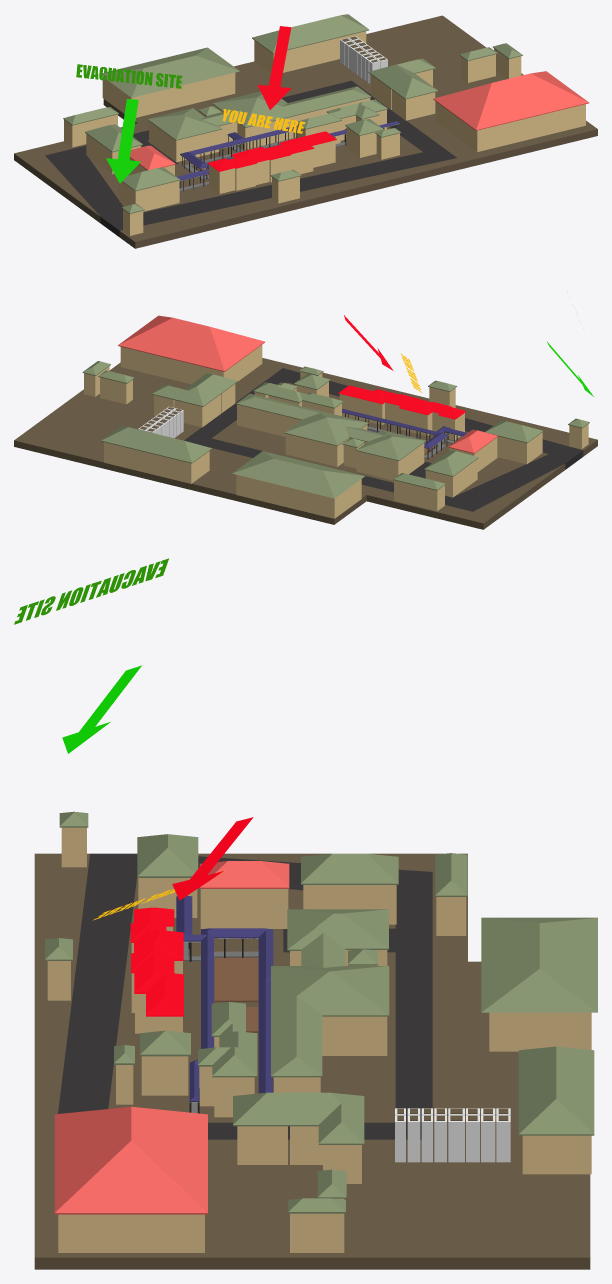
The model's file is BASDBUILDING.glb.
3 renders of one model, top to bottom at view 1: azimuth 30°, elevation 25°; view 2: azimuth 150°, elevation 25°; view 3: azimuth 270°, elevation 25°, orthographic. The views are drawn at different scales.
Visible parts, largest first — view 1: Toposolid Grassland - 1200mm [352516], Toposolid Grassland - 1200mm [354195], Basic Roof Generic - 125mm [387914], Basic Roof Generic - 125mm [384035], Toposolid Grassland - 1200mm [354195].001, Basic Roof Generic - 125mm [378573], Basic Wall Generic - 200mm [355787], Basic Wall Generic - 200mm [355672], Basic Roof Generic - 125mm [385592], Basic Roof Generic - 125mm [385698], Basic Roof Generic - 125mm [387351], Basic Wall Generic - 200mm [355773] (+35 smaller); view 2: Toposolid Grassland - 1200mm [352516], Toposolid Grassland - 1200mm [354195], Basic Roof Generic - 125mm [387914], Basic Roof Generic - 125mm [384035], Basic Roof Generic - 125mm [378573], Basic Wall Generic - 200mm [355757], Basic Roof Generic - 125mm [385592], Basic Wall Generic - 200mm [355771], Basic Wall Generic - 200mm [355789], Basic Roof Generic - 125mm [385698], Basic Roof Generic - 125mm [387351], Basic Wall Generic - 200mm [357221] (+23 smaller); view 3: Toposolid Grassland - 1200mm [352516], Toposolid Grassland - 1200mm [354195], Basic Roof Generic - 125mm [387914], Basic Roof Generic - 125mm [384035], Toposolid Grassland - 1200mm [354195].001, Basic Roof Generic - 125mm [378573], Basic Roof Generic - 125mm [385592], Basic Wall Generic - 200mm [355788], Basic Roof Generic - 125mm [389243], Basic Roof Generic - 125mm [387351], Basic Roof Generic - 125mm [385698], Basic Wall Generic - 200mm [355719] (+24 smaller).
Part boxes in pixels (<box>): Toposolid Grassland - 1200mm [352516]: <box>14,15,597,248</box>; Toposolid Grassland - 1200mm [354195]: <box>45,80,456,236</box>; Basic Roof Generic - 125mm [387914]: <box>433,71,589,130</box>; Basic Roof Generic - 125mm [384035]: <box>147,86,371,140</box>; Toposolid Grassland - 1200mm [354195].001: <box>120,152,453,230</box>; Basic Roof Generic - 125mm [378573]: <box>102,47,239,97</box>; Basic Wall Generic - 200mm [355787]: <box>478,104,585,151</box>; Basic Wall Generic - 200mm [355672]: <box>132,72,235,117</box>; Basic Roof Generic - 125mm [385592]: <box>252,14,369,53</box>; Basic Roof Generic - 125mm [385698]: <box>208,131,336,171</box>; Basic Roof Generic - 125mm [387351]: <box>368,58,438,99</box>; Basic Wall Generic - 200mm [355773]: <box>283,31,366,72</box>; Toposolid Grassland - 1200mm [352516]: <box>14,358,597,529</box>; Toposolid Grassland - 1200mm [354195]: <box>184,368,583,511</box>; Basic Roof Generic - 125mm [387914]: <box>118,315,264,371</box>; Basic Roof Generic - 125mm [384035]: <box>236,394,425,460</box>; Basic Roof Generic - 125mm [378573]: <box>232,451,364,498</box>; Basic Wall Generic - 200mm [355757]: <box>237,475,333,518</box>; Basic Roof Generic - 125mm [385592]: <box>101,426,211,463</box>; Basic Wall Generic - 200mm [355771]: <box>105,442,191,483</box>; Basic Wall Generic - 200mm [355789]: <box>121,347,223,384</box>; Basic Roof Generic - 125mm [385698]: <box>338,385,465,419</box>; Basic Roof Generic - 125mm [387351]: <box>152,373,237,406</box>; Basic Wall Generic - 200mm [357221]: <box>237,404,300,436</box>; Toposolid Grassland - 1200mm [352516]: <box>34,853,590,1269</box>; Toposolid Grassland - 1200mm [354195]: <box>58,853,432,1139</box>; Basic Roof Generic - 125mm [387914]: <box>54,1106,207,1214</box>; Basic Roof Generic - 125mm [384035]: <box>271,909,389,1077</box>; Toposolid Grassland - 1200mm [354195].001: <box>58,854,136,1113</box>; Basic Roof Generic - 125mm [378573]: <box>481,917,597,1012</box>; Basic Roof Generic - 125mm [385592]: <box>518,1046,594,1135</box>; Basic Wall Generic - 200mm [355788]: <box>60,1214,204,1252</box>; Basic Roof Generic - 125mm [389243]: <box>176,895,273,1101</box>; Basic Roof Generic - 125mm [387351]: <box>233,1092,364,1144</box>; Basic Roof Generic - 125mm [385698]: <box>130,907,183,1016</box>; Basic Wall Generic - 200mm [355719]: <box>491,1012,591,1051</box>.
Size of the model in its own units: 90.26 by 29.38 by 52.53.
